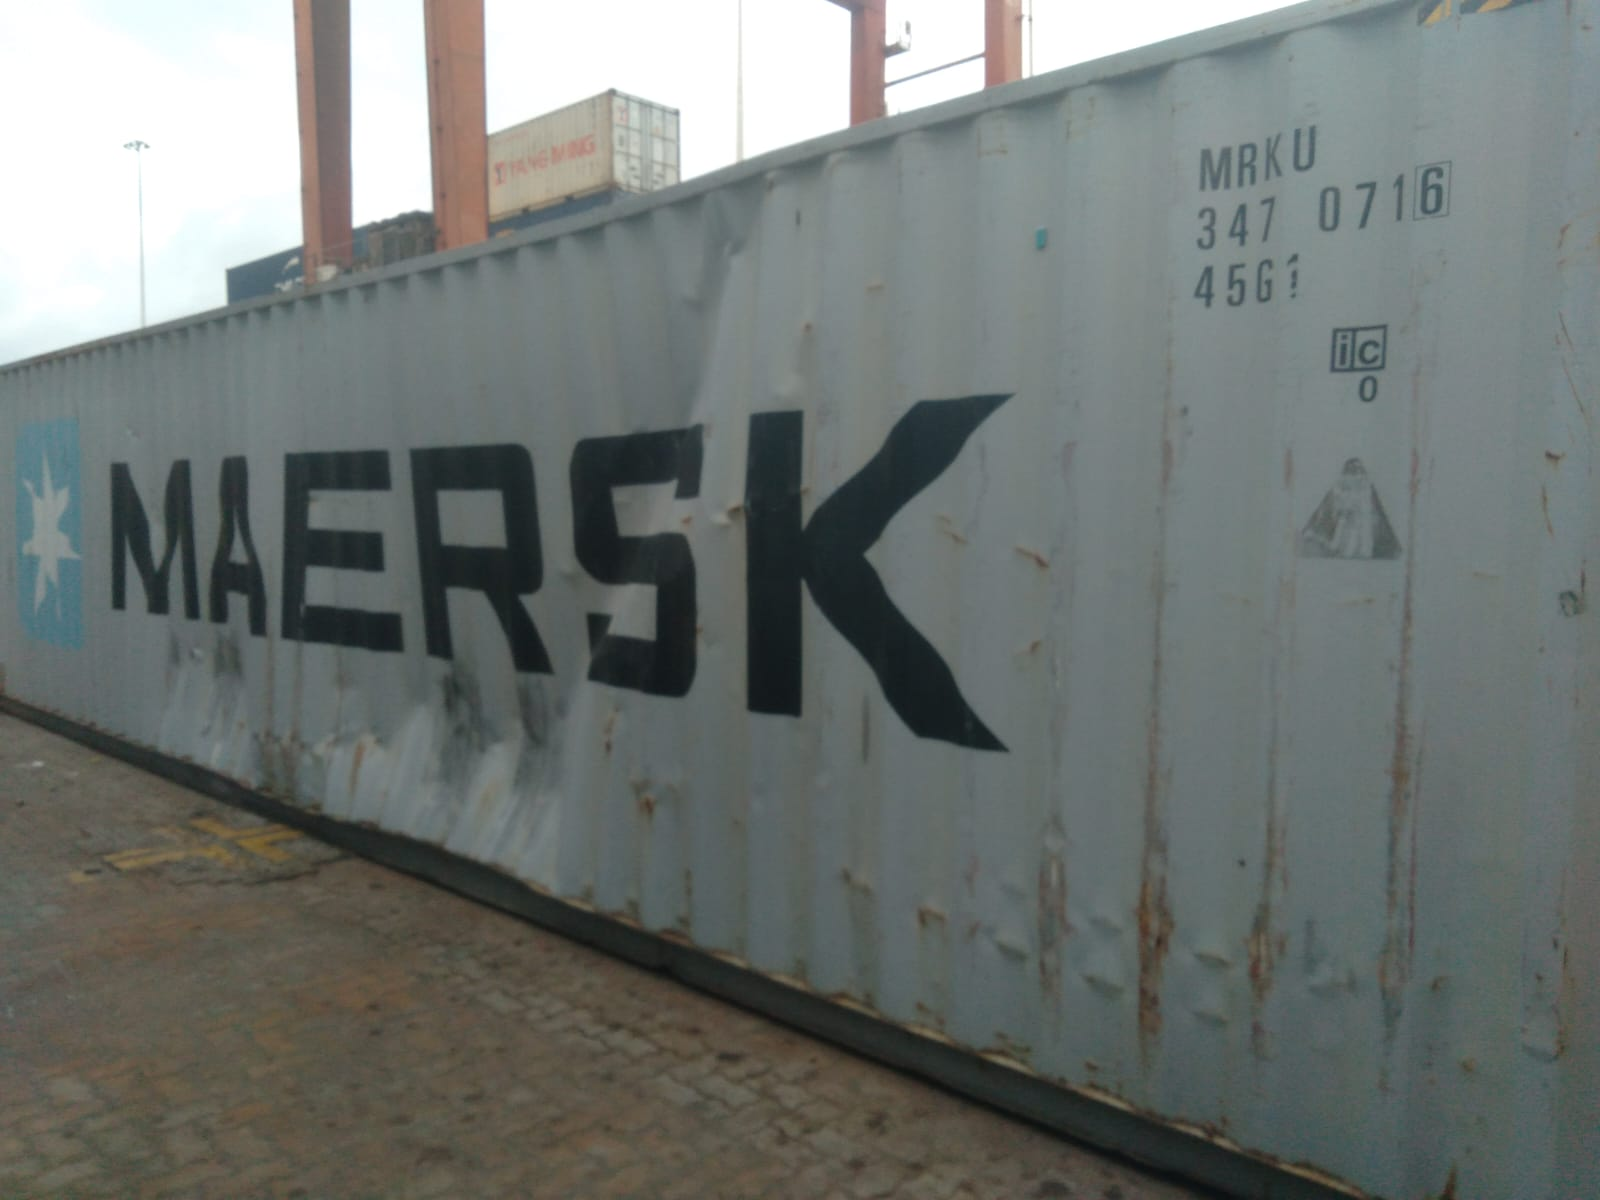bulged: (427, 190, 804, 804)
dented: (901, 884, 1451, 1041)
